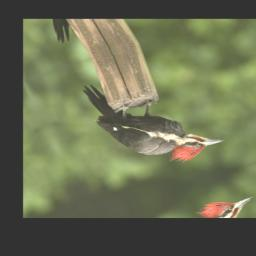Woodpecker: (69, 51, 232, 189)
